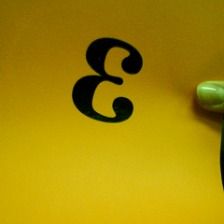orange3: (60, 33, 147, 126)
